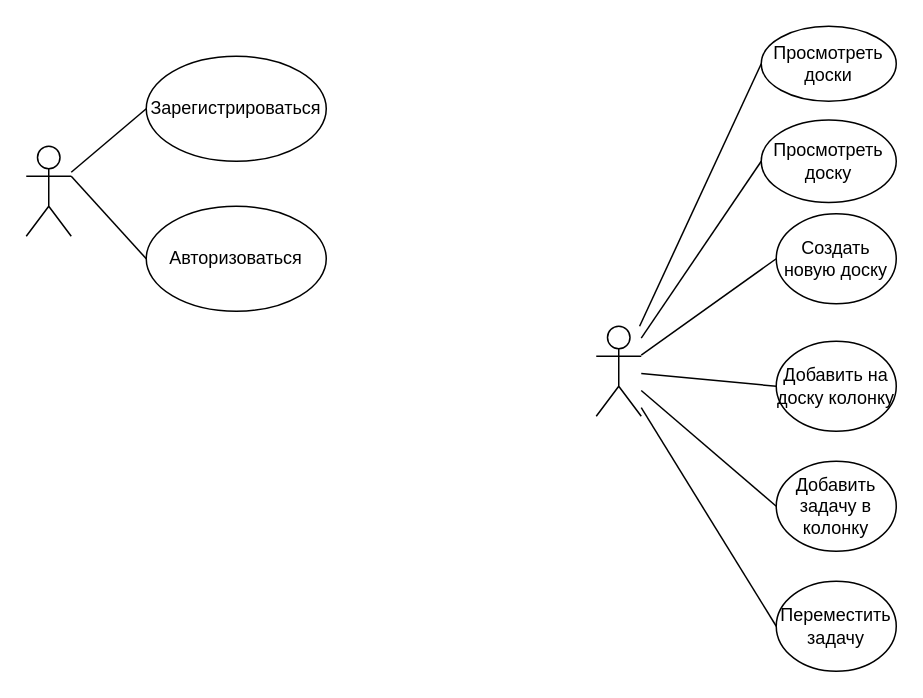
Some shapes in this 923 by 698 pixel diagram are drawn without their labels. The box of each missing label's shape, as (x1, y1, x2, y2) in pixels:
Гость: (25, 145, 71, 236)
Пользователь: (595, 325, 641, 416)
